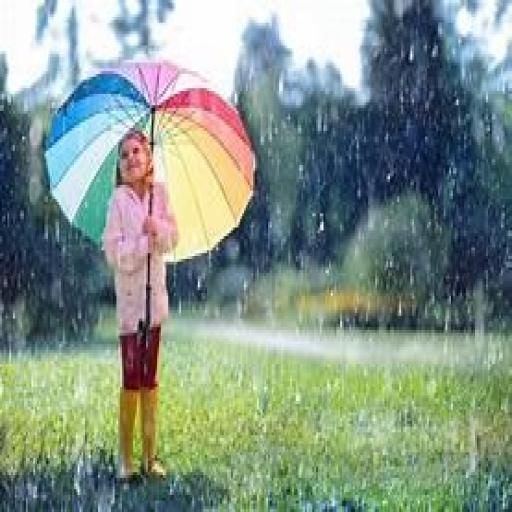guarda_chuva: (43, 57, 255, 330)
